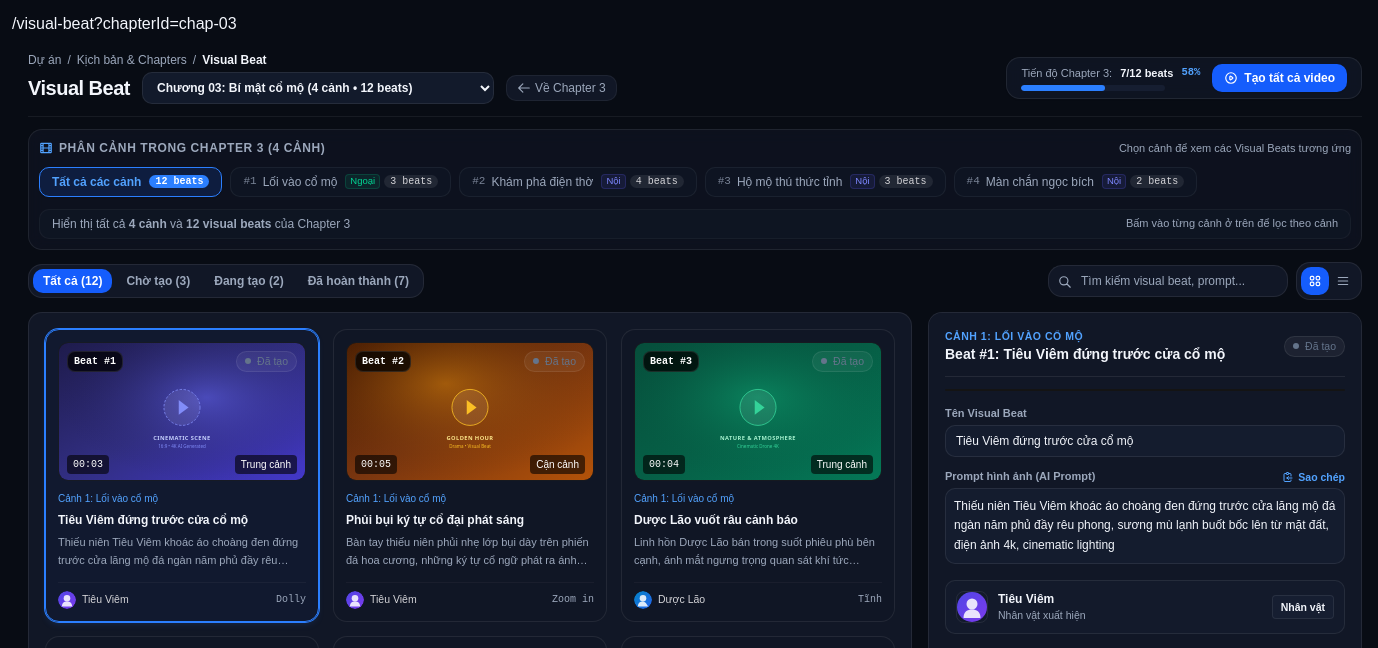
VisualBeatPage - Chapter > Scene > Visual Beat Hierarchy › switches chapters and updates available scenes and beats
This screenshot has width=1378, height=648.
Select Chapter 01
Select "Chương 01: Khởi đầu hành trình (3 cảnh • 8 beats)" in the dropdown named "Chọn Chapter". click: (318, 88)
box: [142,72,494,104]
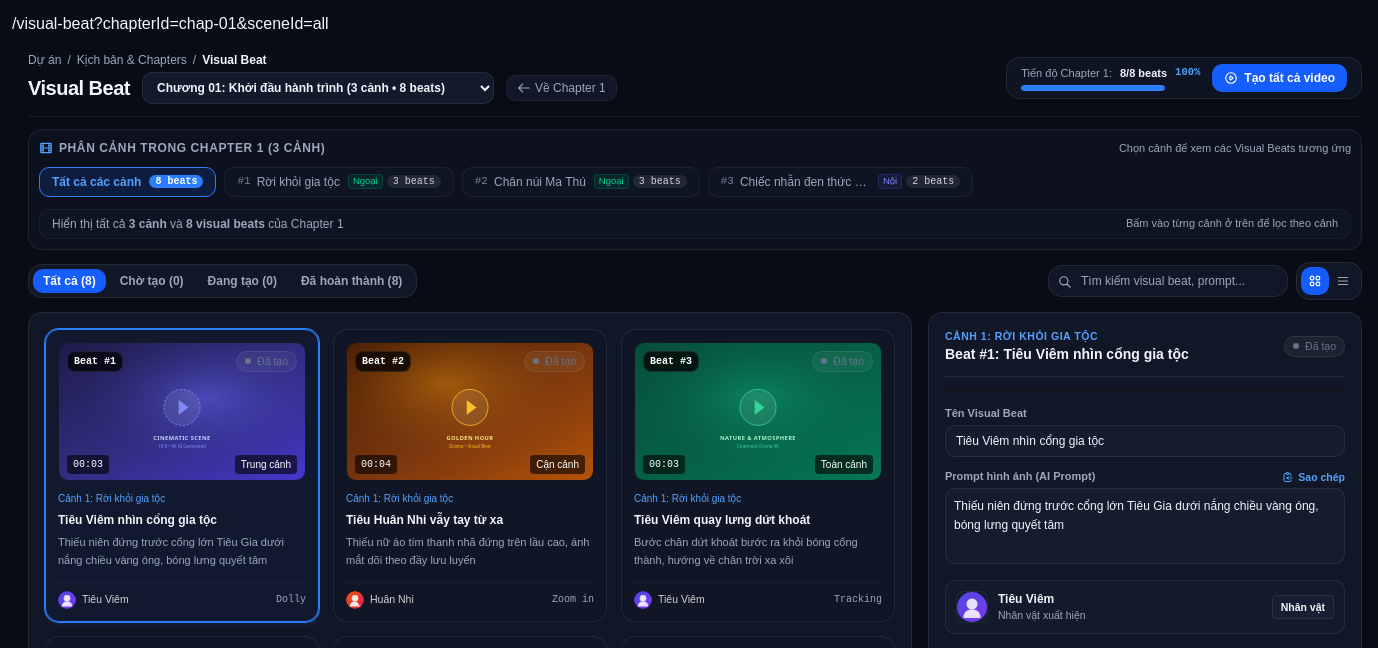
Expected: the text with test id "location-display" shows "chapterId=chap-01", [12,15,329,32]
Expected: the text "Rời khỏi gia tộc" is shown, [257,174,340,190]
Expected: the text "Chân núi Ma Thú" is shown, [494,174,586,190]
